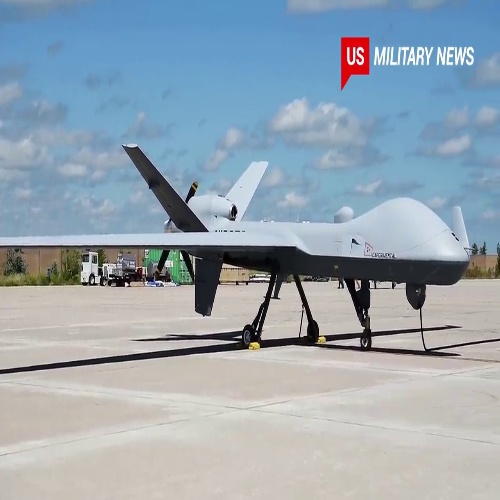uav532: (3, 140, 474, 350)
